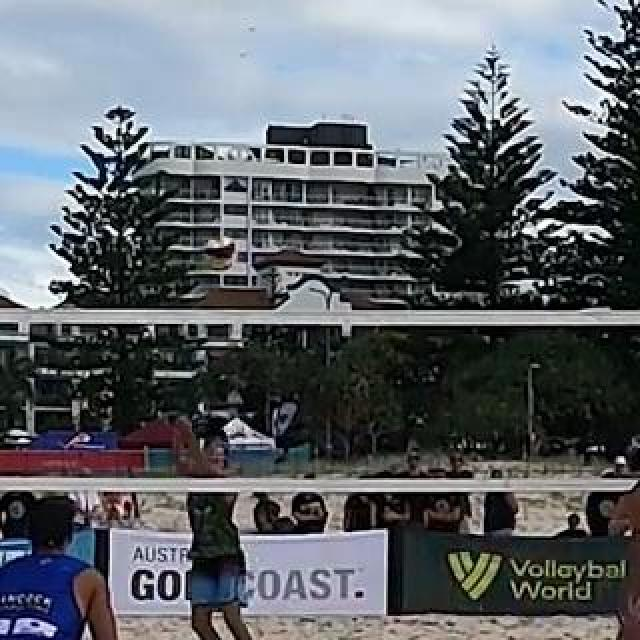volleyball: (201, 235, 237, 273)
